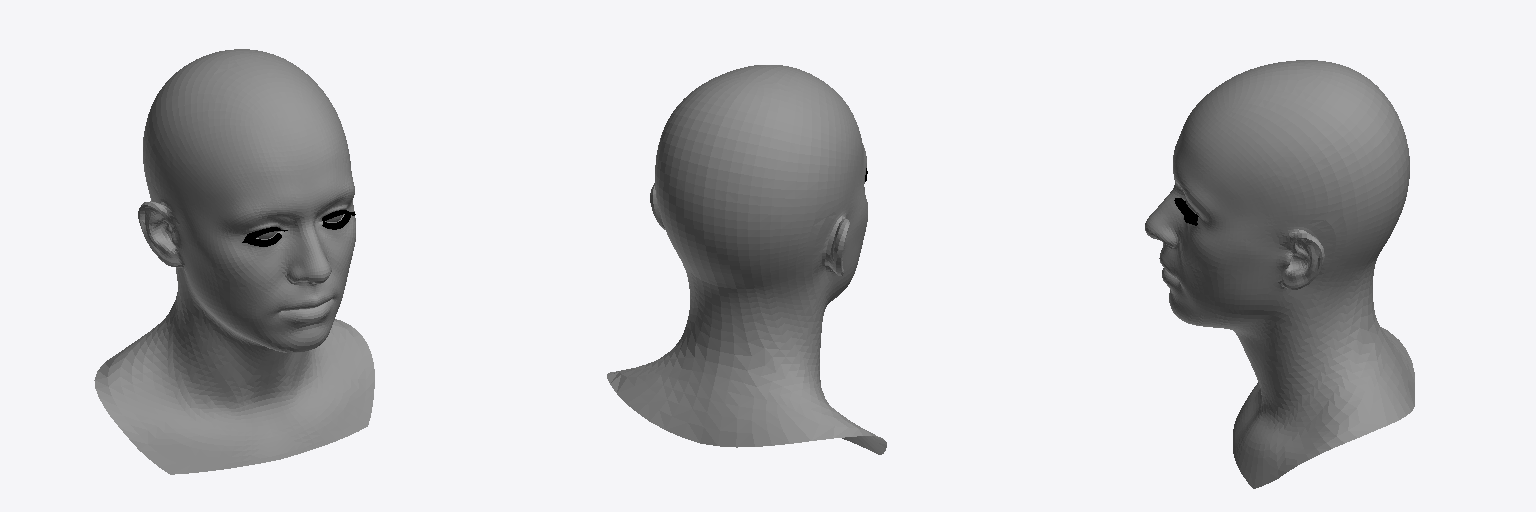
Rendered from identity041.obj.
3 views of the same model, side by side, from view 1: azimuth 30°, elevation 25°; view 2: azimuth 150°, elevation 25°; view 3: azimuth 270°, elevation 25° (orthographic).
Size of the model in its own units: 24.91 by 33.77 by 22.21.